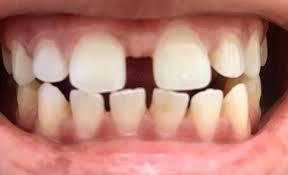Spaced: (126, 50, 156, 86), (101, 92, 111, 115), (145, 88, 154, 108), (186, 95, 192, 117)
